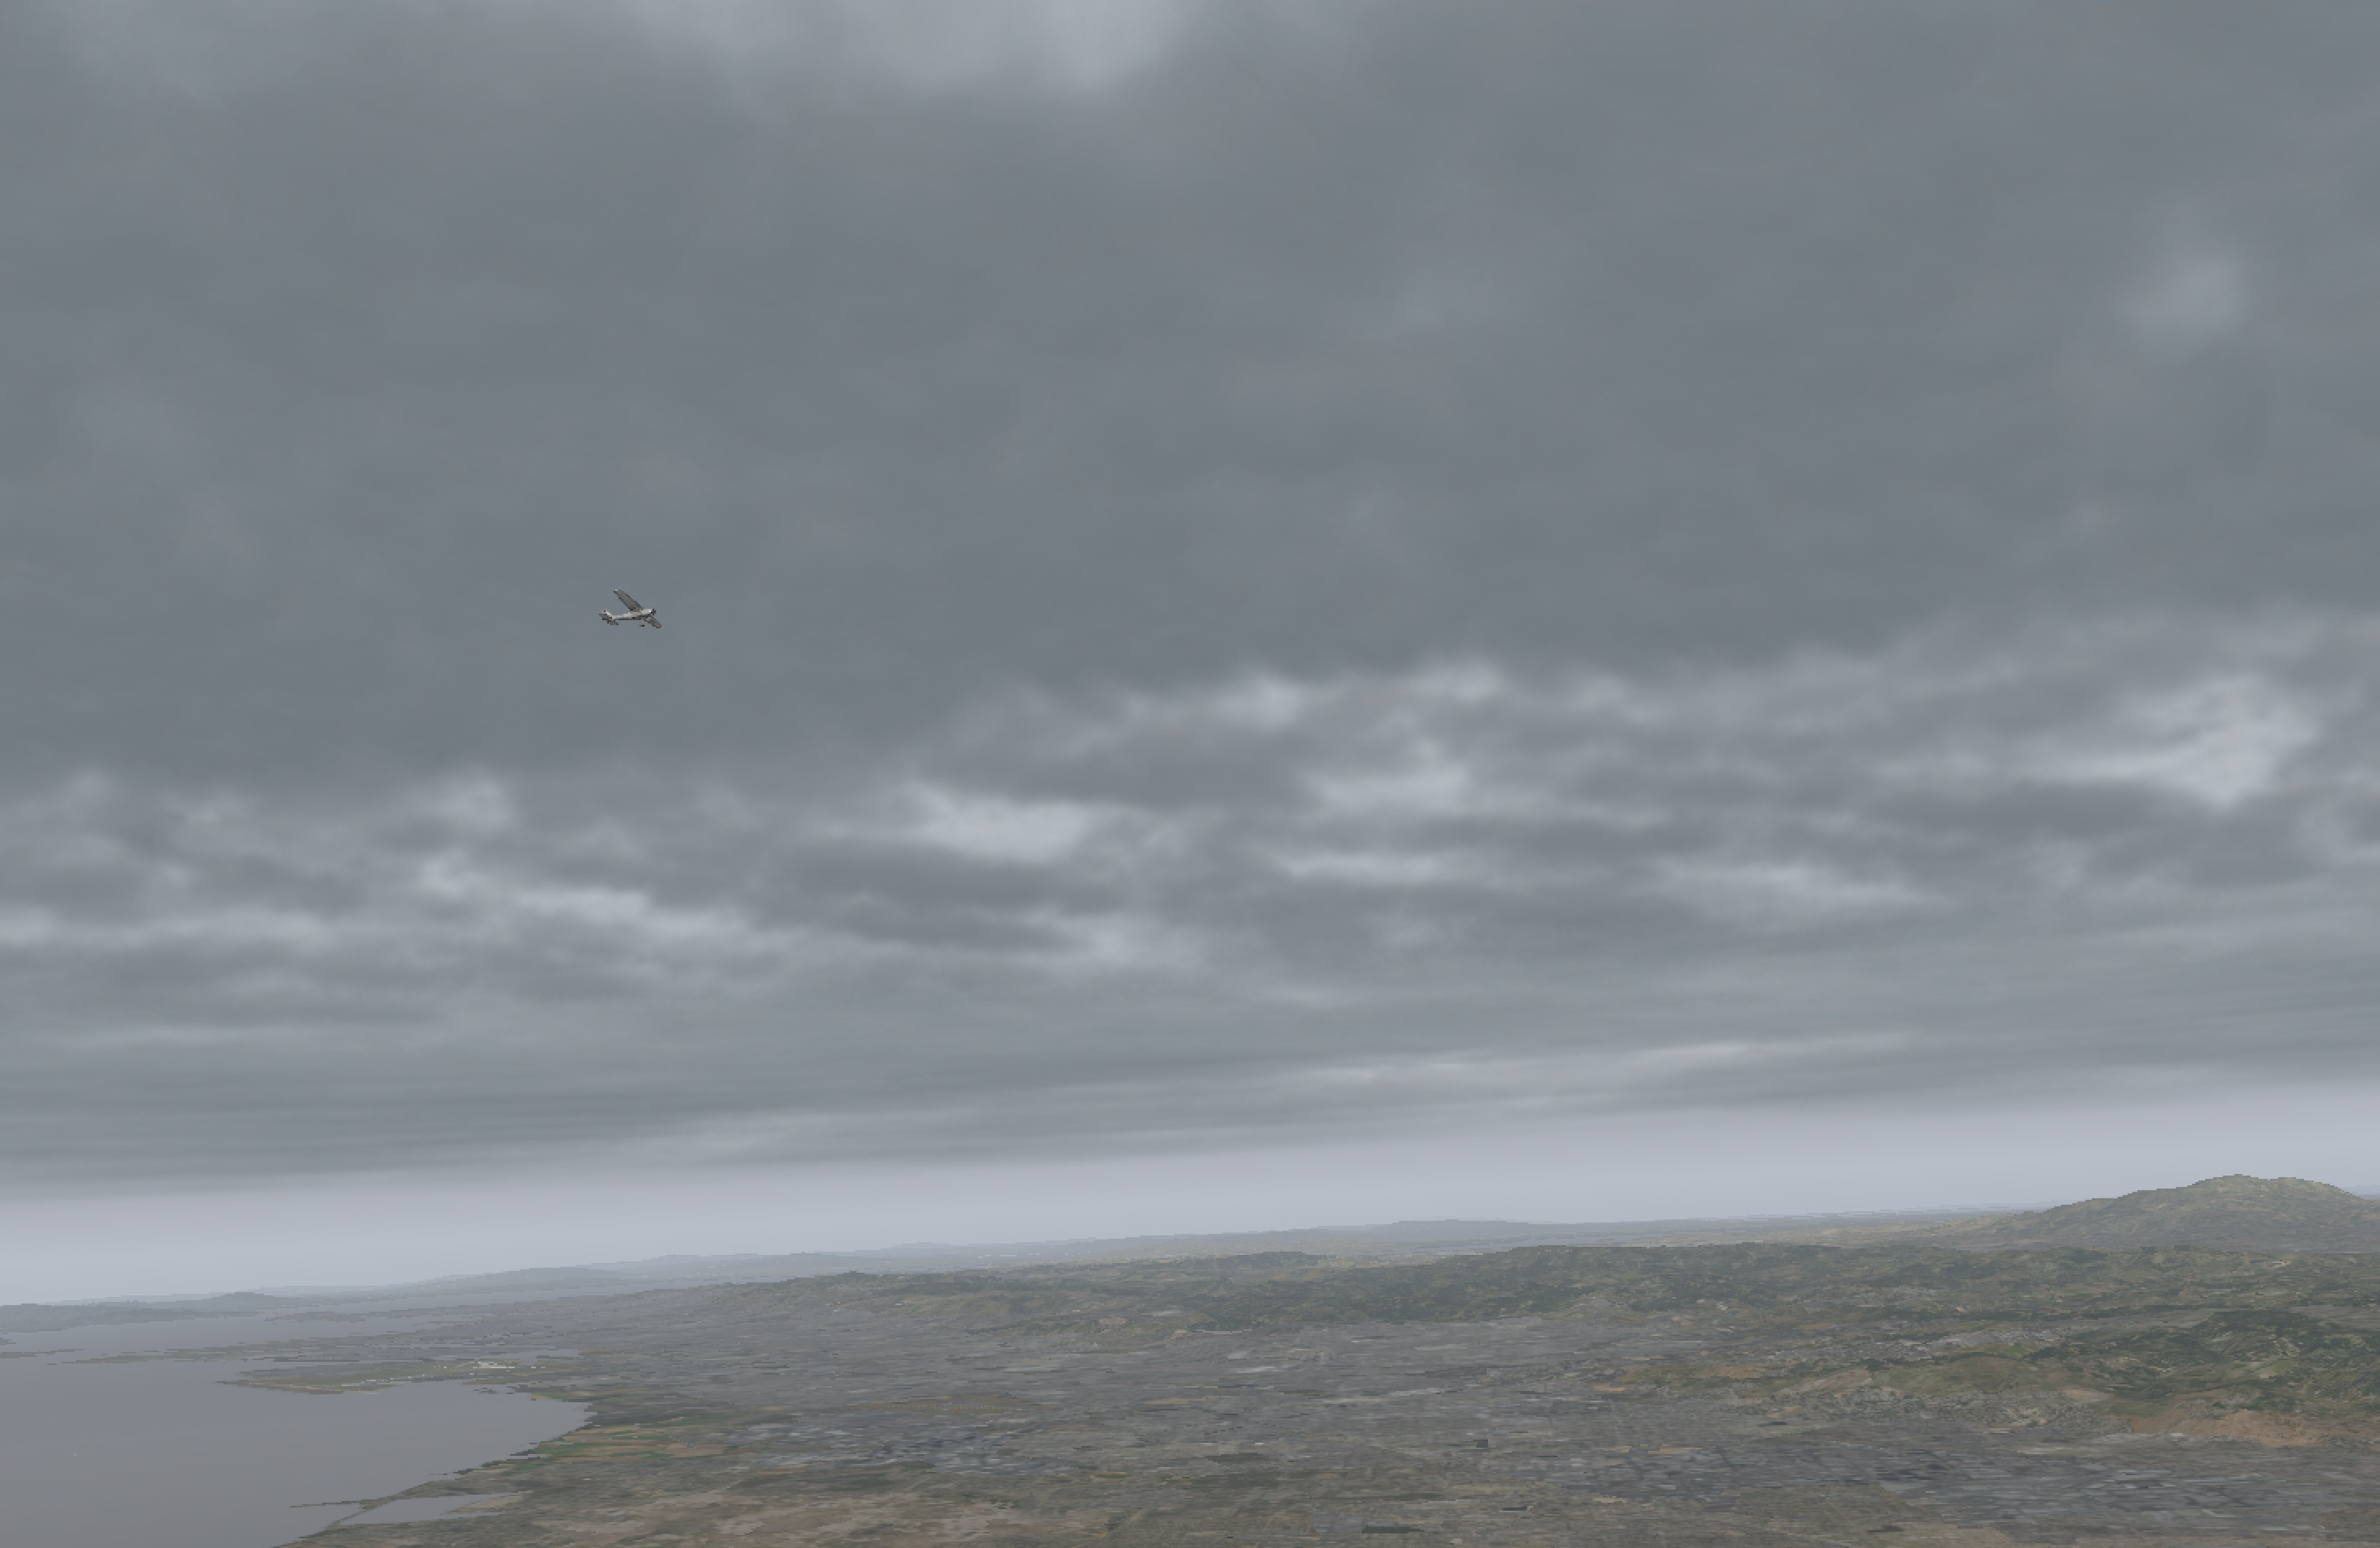aircraft: (611, 602, 670, 625)
